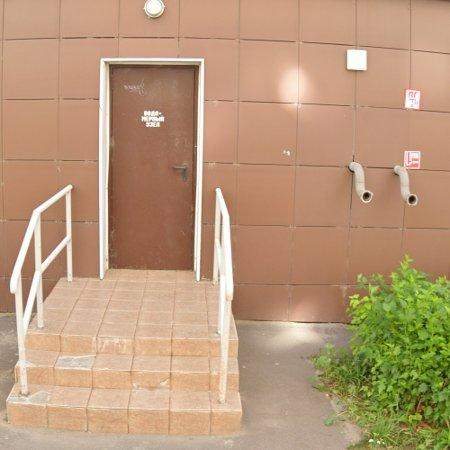stairs: (6, 271, 241, 436)
